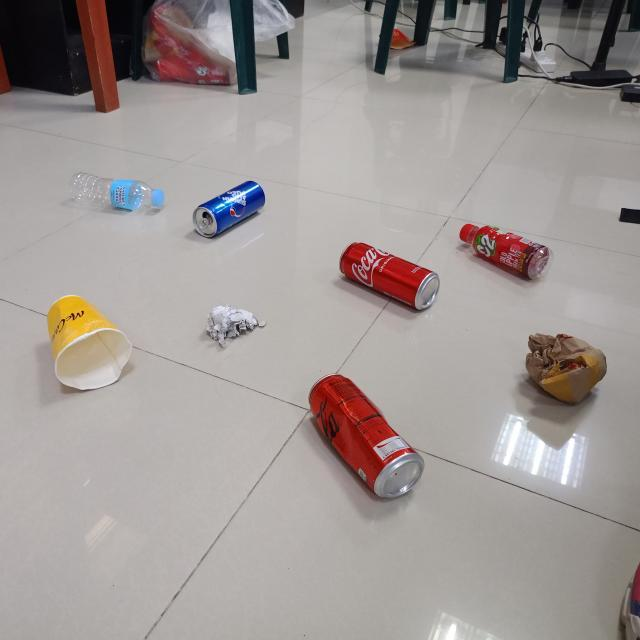recyclable waste: (302, 368, 429, 506), (44, 290, 136, 396), (334, 236, 442, 316), (519, 326, 610, 412), (455, 217, 558, 285), (188, 176, 273, 243), (61, 168, 166, 218), (201, 298, 273, 349)
